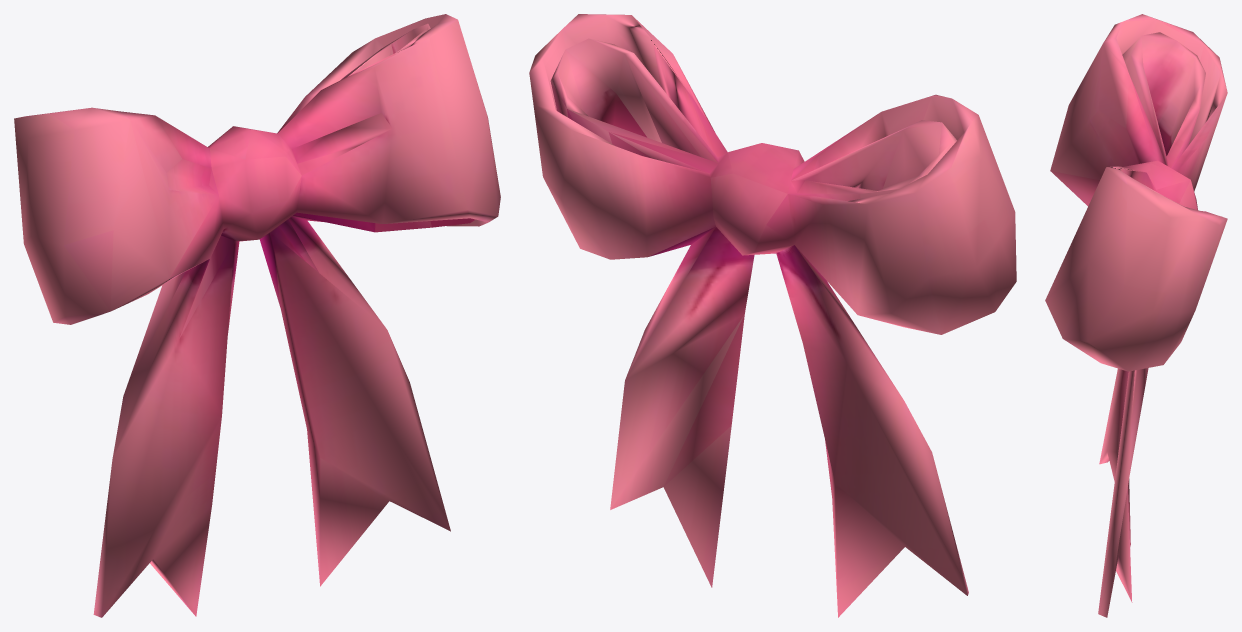
File: noeud_rose.glb
The picture shows the model from 3 angles, left to right: view 1: azimuth 30°, elevation 25°; view 2: azimuth 150°, elevation 25°; view 3: azimuth 270°, elevation 25°; orthographic projection. The views are drawn at different scales.
Parts seen in each view (by area): view 1: LOD0; view 2: LOD0; view 3: LOD0.
Part boxes in pixels (x1,y1,x2,y2): LOD0: (14,14,500,617); LOD0: (529,14,1016,617); LOD0: (1045,14,1227,617).
Size of what is drawn, in the model's own units: 0.8428 by 0.9656 by 0.333.
Materials: 1 (1 with a texture image).
